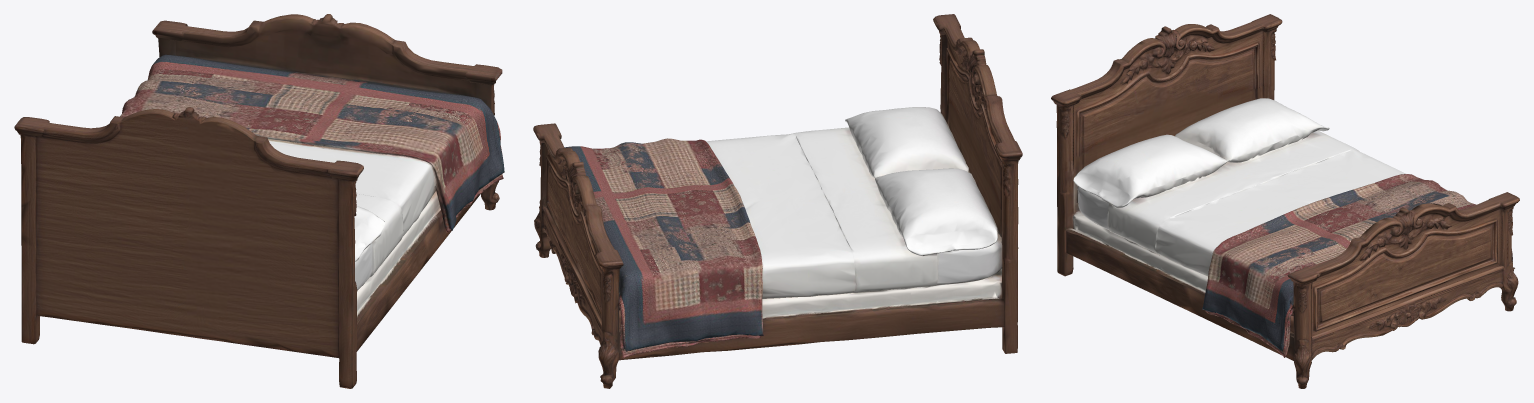
File: kingbed2.glb
3 views of the same model, side by side, from view 1: azimuth 30°, elevation 25°; view 2: azimuth 150°, elevation 25°; view 3: azimuth 270°, elevation 25° (orthographic). The views are drawn at different scales.
Parts seen in each view (by area): view 1: tripo_node_3346fb94-292b-4a14-ba9e-1b29799c97c9; view 2: tripo_node_3346fb94-292b-4a14-ba9e-1b29799c97c9; view 3: tripo_node_3346fb94-292b-4a14-ba9e-1b29799c97c9.
Part boxes in pixels (<box>): tripo_node_3346fb94-292b-4a14-ba9e-1b29799c97c9: <box>14,14,504,388</box>; tripo_node_3346fb94-292b-4a14-ba9e-1b29799c97c9: <box>533,14,1022,388</box>; tripo_node_3346fb94-292b-4a14-ba9e-1b29799c97c9: <box>1051,14,1519,388</box>.
Size of the model in its own units: 1.23 by 0.5929 by 1.22.
1 material, 1 textured.
